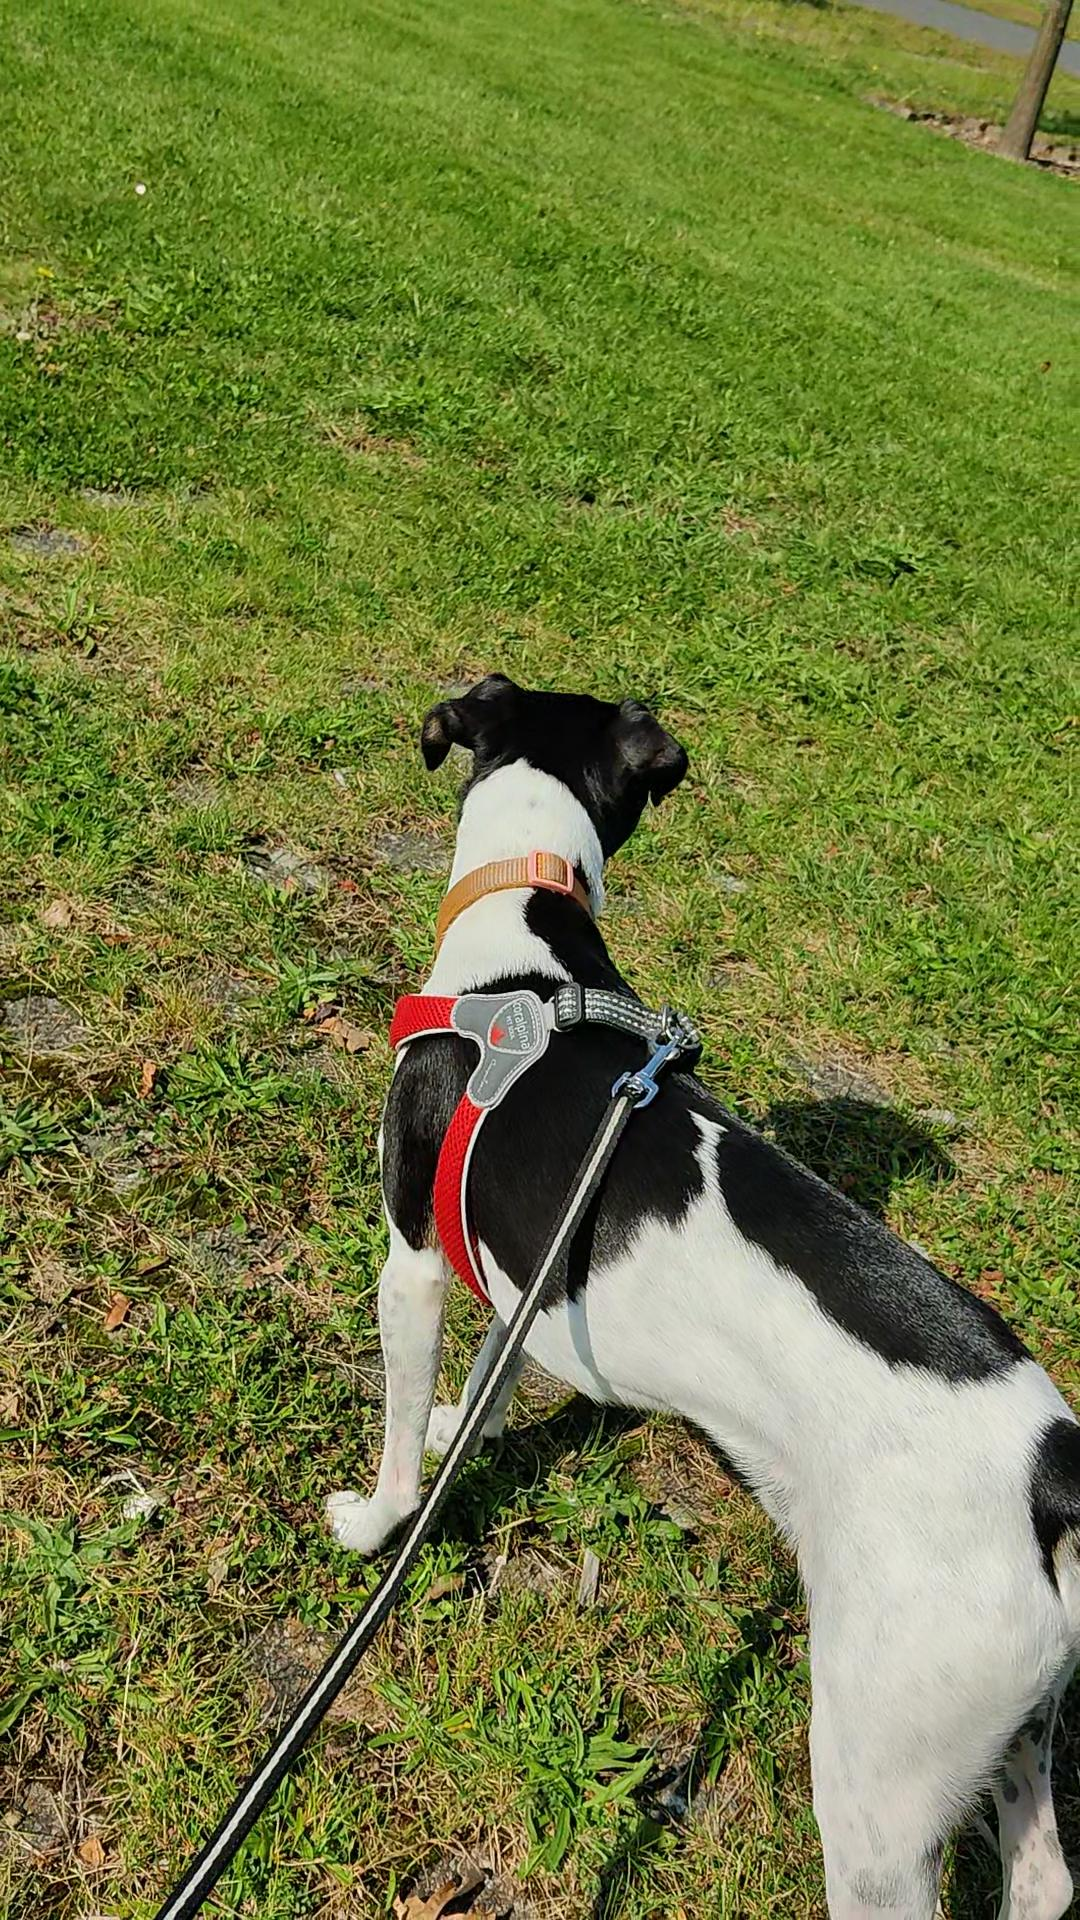Dog: (310, 647, 1079, 1919)
